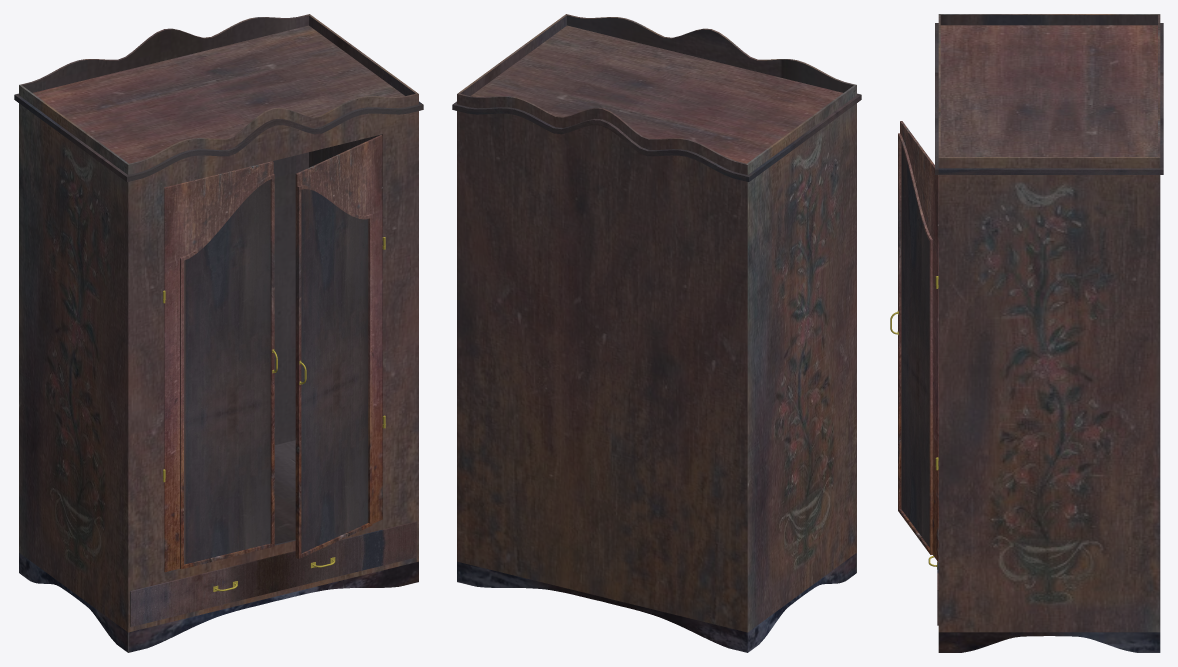
File: The Wardwrob2.glb
3 renders of one model, left to right at view 1: azimuth 30°, elevation 25°; view 2: azimuth 150°, elevation 25°; view 3: azimuth 270°, elevation 25°, orthographic.
Parts seen in each view (by area): view 1: garderob_5, object 2, object 1, object 3; view 2: garderob_5; view 3: garderob_5, object 1.
Part boxes in pixels (box(x1,y1,x2,y2)): garderob_5: box(14, 14, 423, 652); object 2: box(163, 161, 277, 572); object 1: box(295, 135, 385, 558); object 3: box(130, 521, 417, 626); garderob_5: box(452, 14, 861, 652); garderob_5: box(935, 14, 1163, 652); object 1: box(890, 121, 938, 561).
Bounding box in the file's own units: 1.15 × 1.88 × 0.9039.
Materials: 6 (5 with a texture image).
